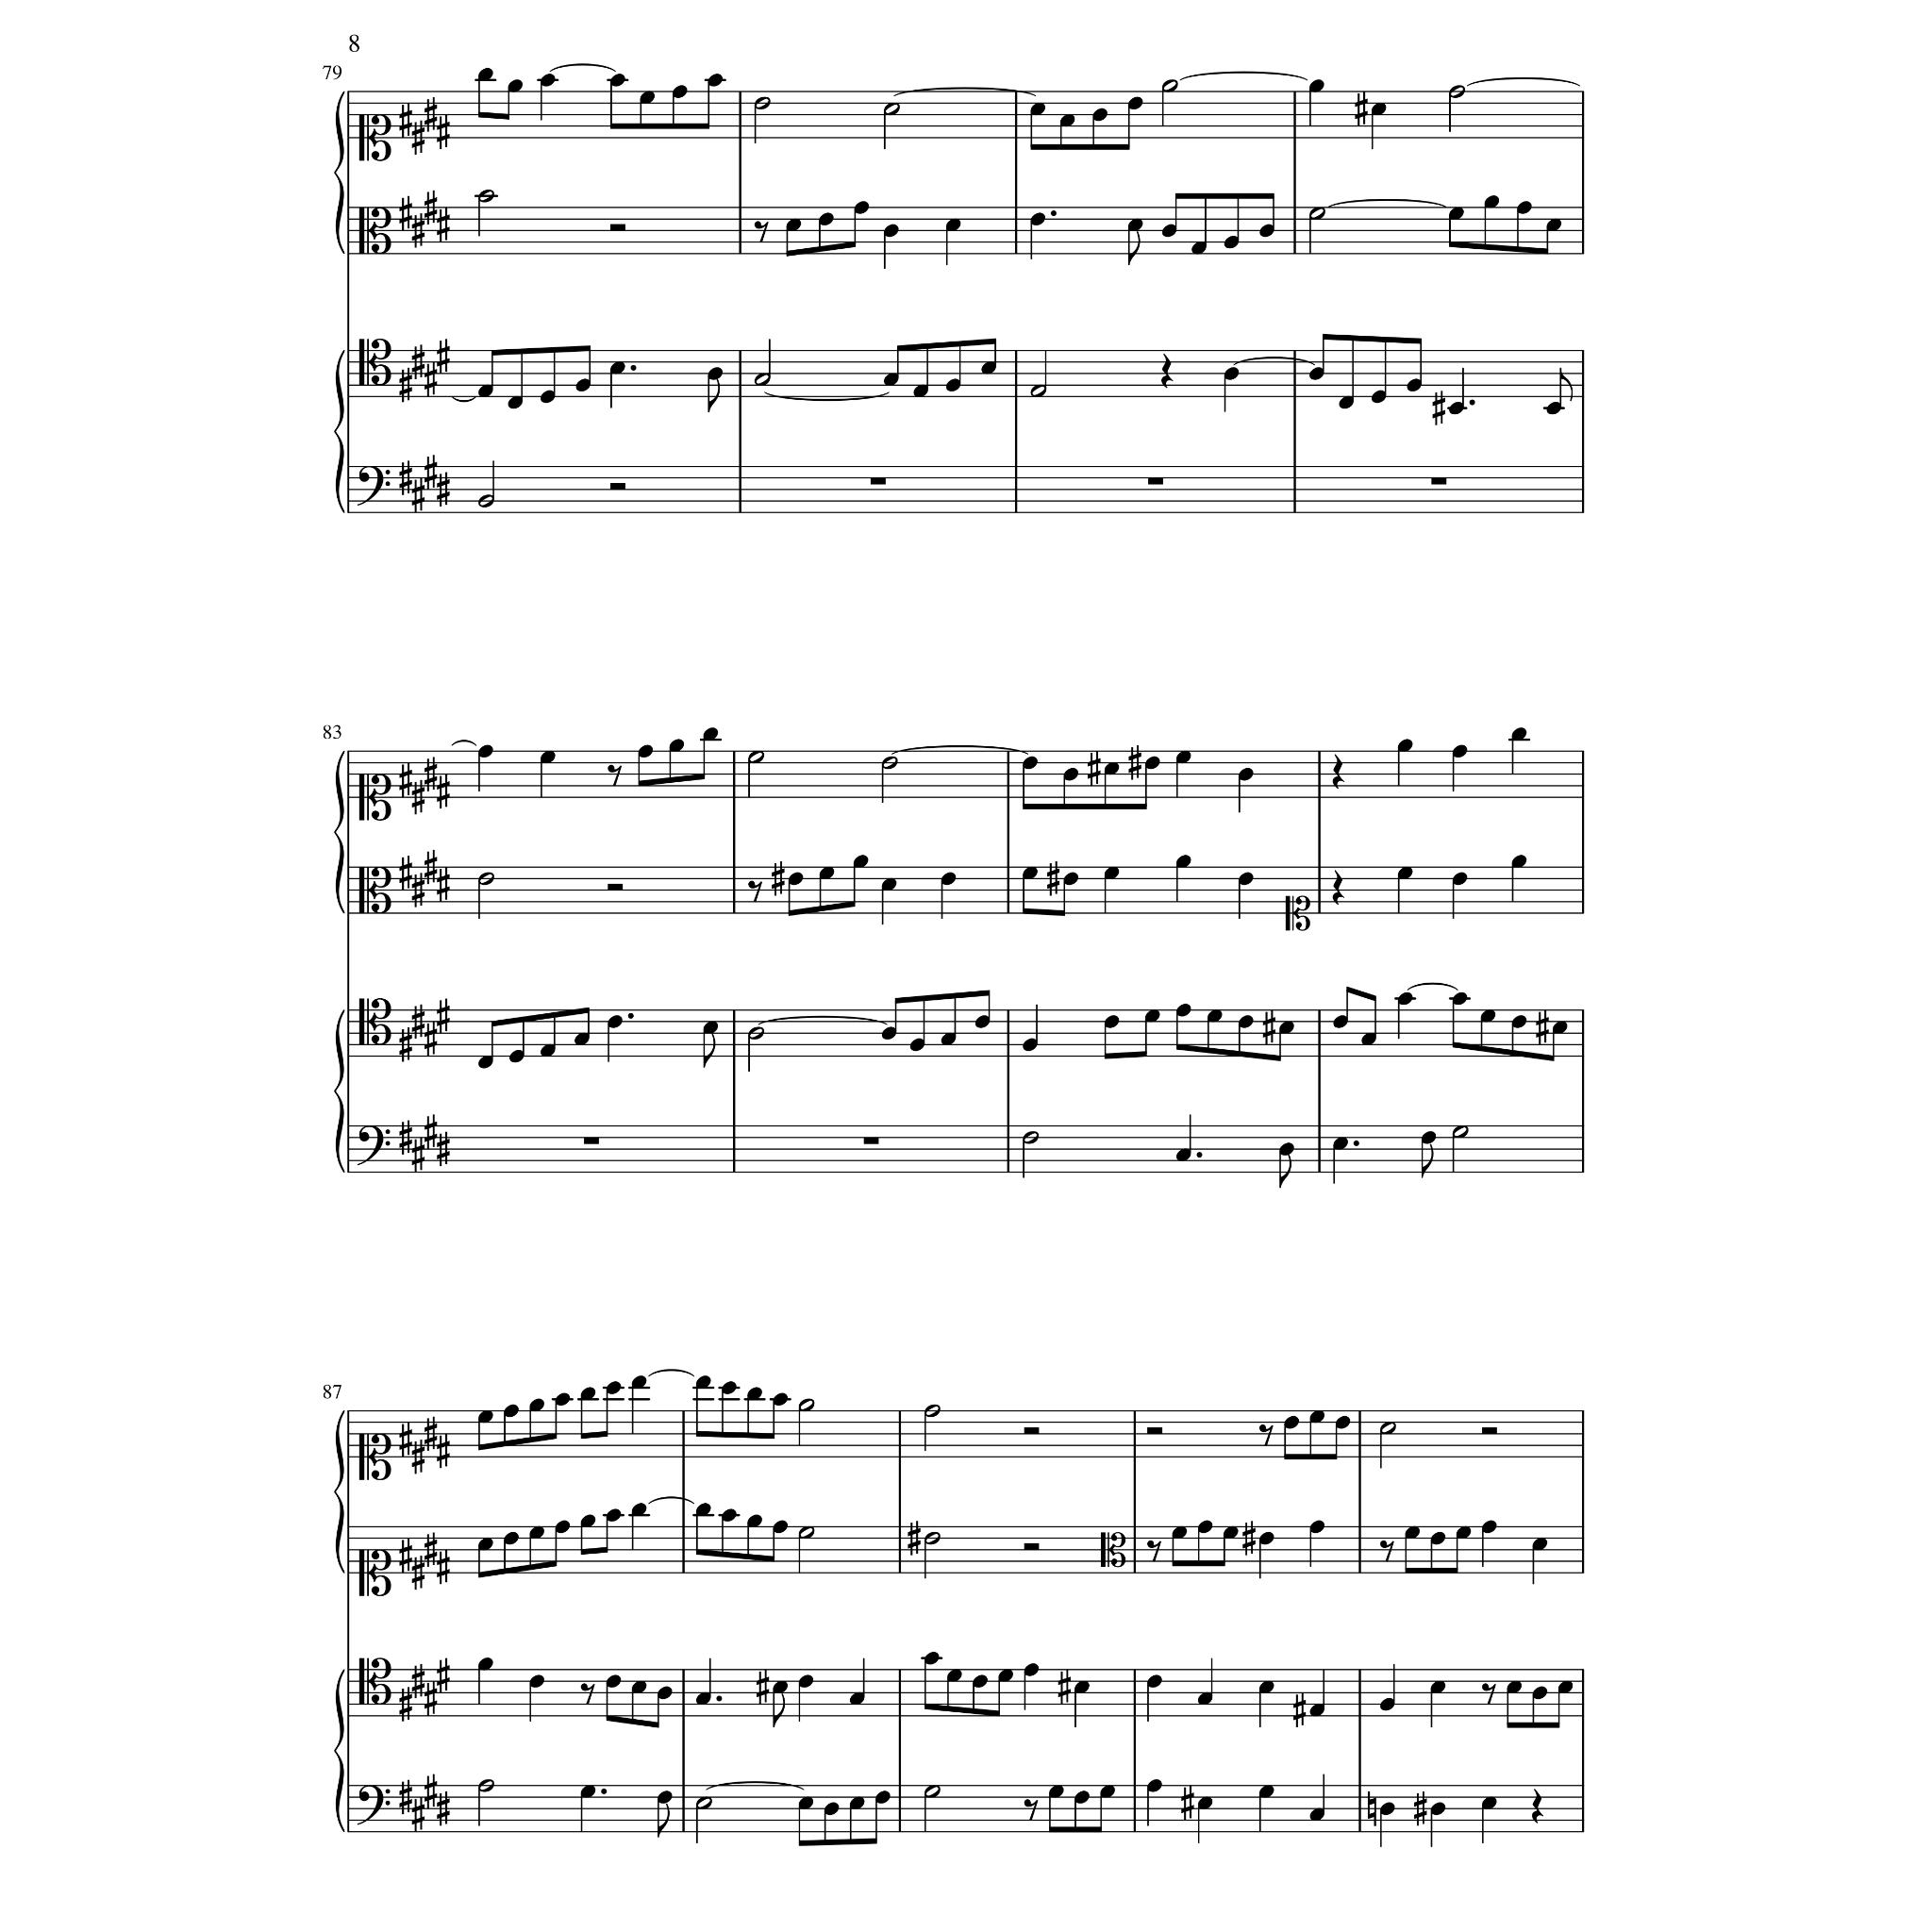brace: (333, 350, 344, 514), (333, 92, 344, 256), (333, 751, 344, 915), (333, 1009, 344, 1174), (333, 1410, 344, 1574), (333, 1669, 344, 1833)
fClef: (357, 1124, 391, 1166), (357, 466, 391, 506), (357, 1785, 391, 1824)
flag8thDown: (708, 377, 721, 413), (1279, 1153, 1292, 1189), (1421, 1143, 1434, 1179), (657, 1804, 670, 1838), (1128, 230, 1140, 266), (704, 1034, 715, 1068), (774, 1693, 785, 1727)
flag8thUp: (1559, 368, 1573, 402)
noteheadBlack: (1062, 872, 1079, 887), (1175, 1147, 1192, 1162), (1451, 872, 1468, 887), (477, 1055, 494, 1070), (940, 872, 957, 887), (787, 872, 804, 887), (1283, 1415, 1300, 1430), (1023, 1662, 1040, 1677), (1334, 1415, 1351, 1430), (502, 1404, 519, 1419), (721, 1507, 738, 1523), (1060, 113, 1075, 128), (609, 360, 625, 375), (981, 360, 996, 375), (1238, 872, 1253, 887), (606, 1507, 621, 1523), (1223, 236, 1240, 249), (1223, 367, 1240, 380), (1191, 241, 1207, 255), (1307, 367, 1324, 380), (1307, 80, 1324, 93), (1258, 225, 1275, 238), (1160, 225, 1177, 238), (1126, 219, 1143, 232), (1126, 97, 1143, 110), (1545, 402, 1562, 415), (1545, 219, 1562, 232), (1338, 396, 1355, 409), (1483, 196, 1500, 209), (1447, 402, 1464, 415), (1447, 208, 1464, 221), (1406, 379, 1423, 392), (477, 385, 494, 398), (477, 68, 494, 81), (853, 201, 870, 214), (817, 213, 834, 226), (785, 219, 802, 232), (1062, 768, 1079, 781), (1332, 1137, 1349, 1150), (1332, 1015, 1349, 1028), (1143, 757, 1160, 770), (1143, 1009, 1160, 1023), (1206, 1009, 1223, 1023), (1175, 1004, 1192, 1017), (1175, 855, 1192, 868), (1175, 751, 1192, 764), (1479, 1009, 1496, 1023), (1360, 1033, 1377, 1046), (1396, 740, 1413, 753), (1396, 867, 1413, 880), (1396, 992, 1413, 1006), (1451, 992, 1468, 1006), (1451, 745, 1468, 758), (702, 1021, 719, 1034), (668, 740, 685, 753), (702, 727, 719, 741), (508, 1050, 525, 1063), (477, 745, 494, 758), (974, 1015, 991, 1028), (940, 1033, 957, 1046), (1196, 1796, 1213, 1809), (1196, 1520, 1213, 1533), (1196, 1692, 1213, 1706), (1506, 1681, 1523, 1694), (1557, 1681, 1574, 1694), (1379, 1698, 1396, 1711), (1379, 1802, 1396, 1815), (1455, 1526, 1472, 1540), (1404, 1526, 1421, 1540), (579, 1387, 596, 1400), (579, 1515, 596, 1528), (579, 1785, 596, 1798), (694, 1692, 711, 1706), (694, 1375, 711, 1389), (657, 1790, 674, 1804), (630, 1375, 647, 1389), (630, 1503, 647, 1516), (630, 1681, 647, 1694), (657, 1686, 674, 1699), (477, 1410, 494, 1424), (477, 1538, 494, 1551), (477, 1657, 494, 1671), (528, 1398, 545, 1411), (528, 1526, 545, 1540), (528, 1674, 545, 1688), (694, 1503, 711, 1516), (502, 1532, 519, 1545), (823, 1802, 840, 1815), (721, 1381, 738, 1394), (772, 1393, 789, 1407), (772, 1681, 789, 1694), (772, 1520, 789, 1533), (1092, 108, 1108, 122), (1517, 201, 1532, 214), (1372, 391, 1387, 404), (1372, 103, 1387, 116), (575, 379, 591, 392), (609, 74, 625, 87), (540, 391, 555, 404), (540, 74, 555, 87), (508, 396, 523, 409), (508, 80, 523, 93), (672, 85, 687, 98), (640, 92, 655, 105), (883, 373, 898, 386), (883, 225, 898, 238), (1030, 213, 1045, 226), (1030, 103, 1045, 116), (945, 379, 960, 392), (945, 219, 960, 232), (913, 385, 928, 398), (708, 367, 723, 380), (708, 74, 723, 87), (1279, 1142, 1294, 1156), (1279, 1021, 1294, 1034), (1238, 1015, 1253, 1028), (1238, 768, 1253, 781), (1104, 1015, 1119, 1028), (1104, 867, 1119, 880), (1104, 762, 1119, 775), (1552, 1021, 1567, 1034), (1511, 727, 1526, 741), (1511, 855, 1526, 868), (1511, 1015, 1526, 1028), (1421, 1131, 1436, 1144), (638, 745, 653, 758), (574, 1033, 589, 1046), (608, 1015, 623, 1028), (540, 751, 555, 764), (540, 1044, 555, 1058), (1023, 757, 1038, 770), (1023, 867, 1038, 880), (1023, 1038, 1038, 1051), (909, 1038, 924, 1051), (819, 867, 834, 880), (881, 1026, 896, 1040), (881, 878, 896, 891), (853, 855, 868, 868), (1309, 1807, 1324, 1821), (1172, 1526, 1187, 1540), (1309, 1410, 1324, 1424), (1309, 1520, 1324, 1533), (1309, 1704, 1324, 1717), (947, 1669, 962, 1682), (1258, 1532, 1274, 1545), (1223, 1526, 1238, 1540), (1258, 1681, 1274, 1694), (1258, 1785, 1274, 1798), (1048, 1785, 1063, 1798), (972, 1674, 987, 1688), (1074, 1681, 1089, 1694), (998, 1669, 1013, 1682), (1147, 1779, 1162, 1792), (1147, 1674, 1162, 1688), (1074, 1790, 1089, 1804), (1100, 1785, 1115, 1798), (1532, 1538, 1547, 1551), (1532, 1686, 1547, 1699), (1481, 1520, 1496, 1533), (1481, 1796, 1496, 1809), (1430, 1532, 1445, 1545), (1430, 1681, 1445, 1694), (1430, 1802, 1445, 1815), (606, 1381, 621, 1394), (606, 1674, 621, 1688), (555, 1393, 570, 1407), (555, 1520, 570, 1533), (849, 1692, 864, 1706), (849, 1796, 864, 1809), (875, 1790, 891, 1804), (798, 1674, 813, 1688), (798, 1796, 813, 1809), (924, 1652, 940, 1665), (747, 1387, 762, 1400), (747, 1515, 762, 1528)
noteheadHalf: (477, 872, 494, 887), (1308, 208, 1325, 221), (1161, 80, 1178, 93), (1448, 85, 1465, 98), (477, 494, 494, 508), (477, 190, 494, 203), (883, 103, 900, 116), (1029, 385, 1046, 398), (754, 373, 771, 386), (754, 97, 771, 110), (1452, 1125, 1469, 1139), (747, 751, 764, 764), (747, 1027, 764, 1041), (1022, 1131, 1039, 1144), (881, 757, 898, 770), (1379, 1422, 1396, 1435), (695, 1796, 712, 1809), (477, 1779, 494, 1792), (798, 1398, 815, 1411), (798, 1526, 815, 1540), (924, 1405, 941, 1418), (924, 1532, 941, 1545), (924, 1785, 941, 1798)
rest8th: (754, 221, 769, 243), (607, 765, 622, 788), (747, 880, 762, 903), (1258, 1424, 1274, 1447), (1024, 1799, 1039, 1822), (1146, 1540, 1161, 1562), (1481, 1683, 1496, 1706), (1379, 1540, 1394, 1562), (580, 1683, 595, 1706)
restHalf: (609, 224, 626, 231), (609, 483, 626, 491), (1023, 1427, 1040, 1435), (1023, 1543, 1040, 1551), (1481, 1427, 1498, 1435), (608, 884, 623, 891), (1147, 1427, 1162, 1435)
restQuarter: (1332, 754, 1345, 790), (1332, 870, 1345, 906), (1160, 355, 1174, 389), (1532, 1788, 1543, 1824)
restWhole: (870, 477, 887, 485), (1147, 477, 1164, 485), (1430, 477, 1447, 485), (862, 1138, 879, 1145), (583, 1138, 598, 1145)
